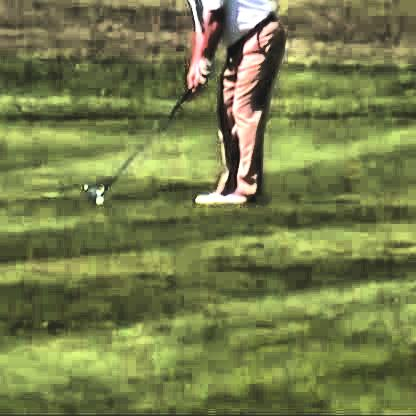golfball: (93, 193, 104, 203)
